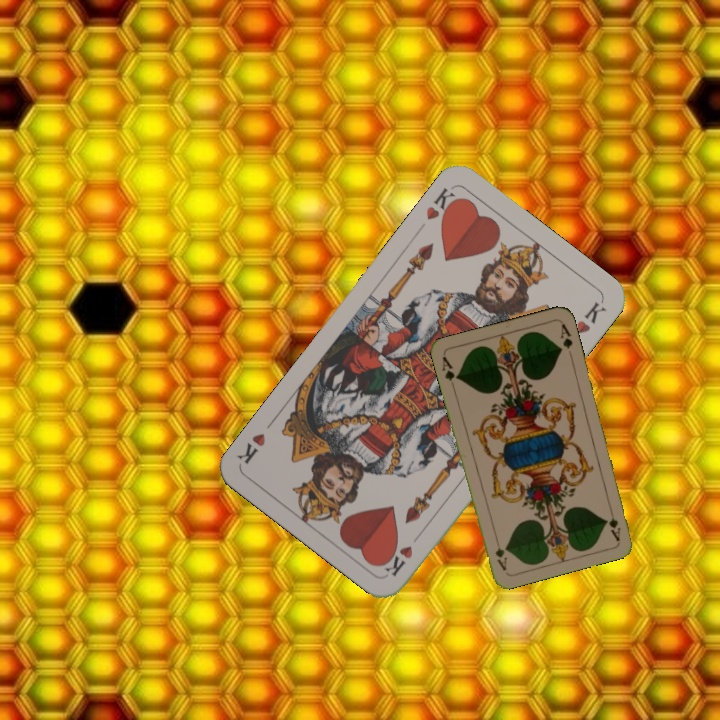GA: (605, 502, 623, 543), (438, 352, 461, 384)
HK: (421, 183, 463, 227), (381, 541, 416, 580)
